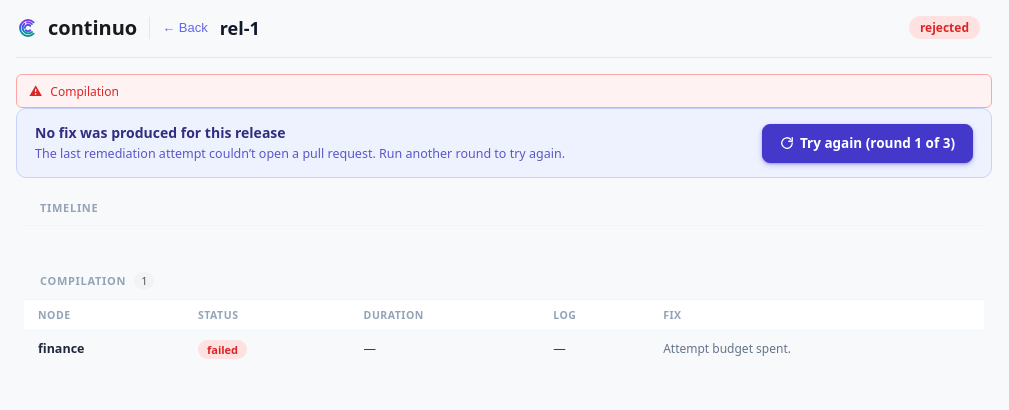
ReleaseDetailPage — retry a dead-end rejected release › shows the retry-in-progress message on a 409 retry_in_progress
Click the button "Try again (round 1 of 3)" at (867, 143), box [762,124,973,162]
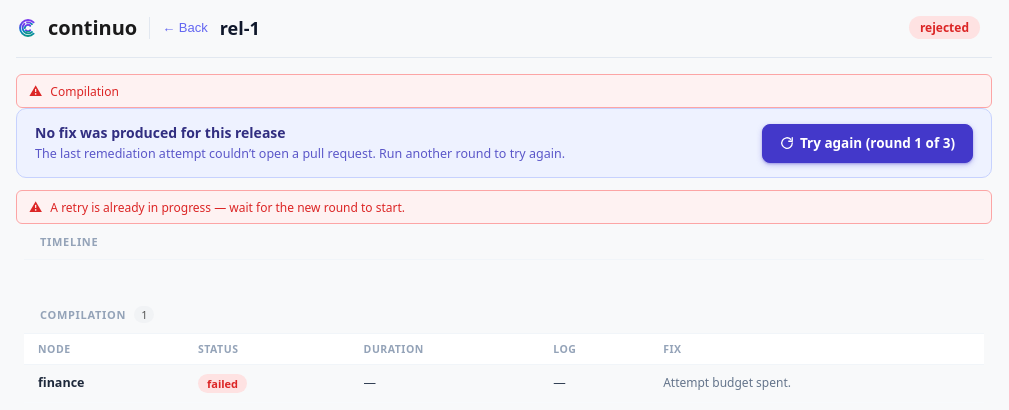
expect the text "⚠ A retry is already in progress — wait for the new round to start." is shown: met, box [16,190,992,224]
